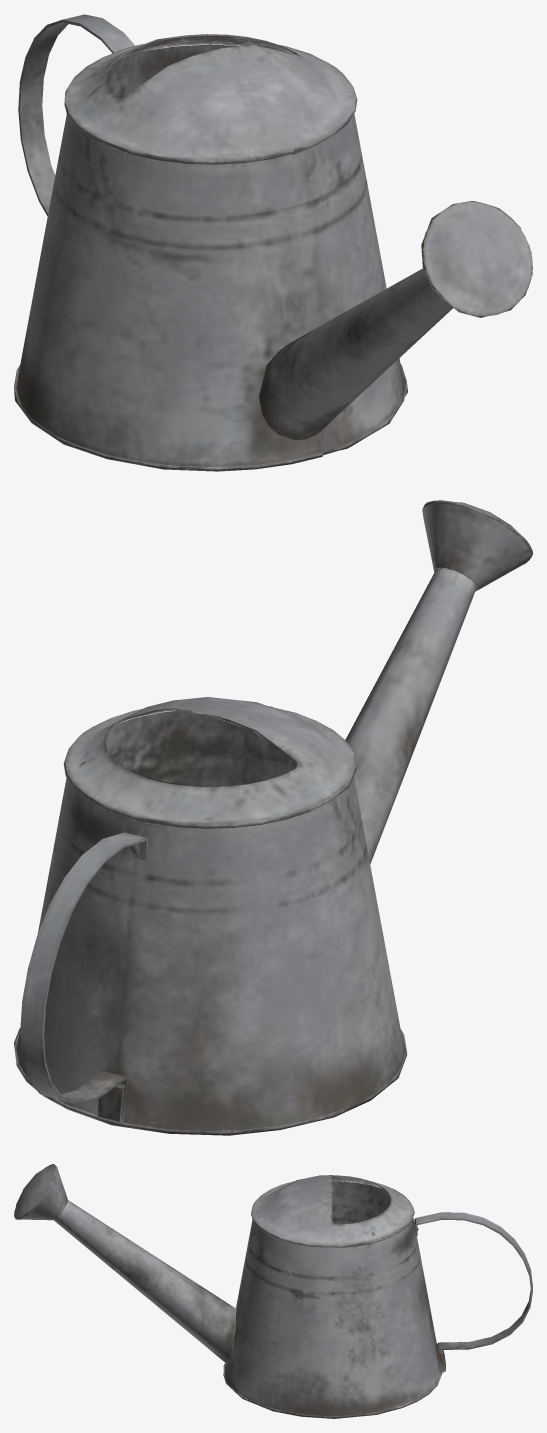
File: ph_watering_can_metal_01.glb
3 renders of one model, top to bottom at view 1: azimuth 30°, elevation 25°; view 2: azimuth 150°, elevation 25°; view 3: azimuth 270°, elevation 25°, orthographic. The views are drawn at different scales.
Visible parts, largest first — view 1: watering_can_metal_01; view 2: watering_can_metal_01; view 3: watering_can_metal_01.
Boxes of the visible parts, left/top/right/bottom form: watering_can_metal_01: left=14, top=14, right=532, bottom=471; watering_can_metal_01: left=14, top=500, right=532, bottom=1135; watering_can_metal_01: left=14, top=1164, right=532, bottom=1418.
Size of the model in its own units: 0.1907 by 0.1969 by 0.4523.
Materials: 1 (1 with a texture image).
